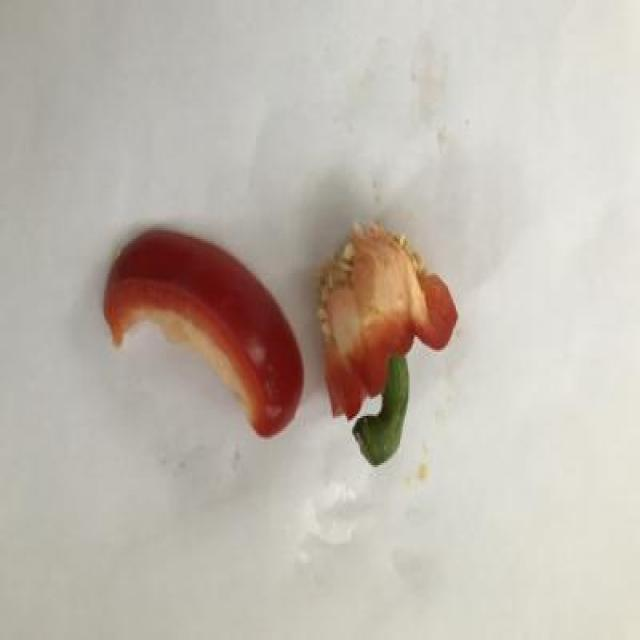compost: (85, 187, 480, 492)
